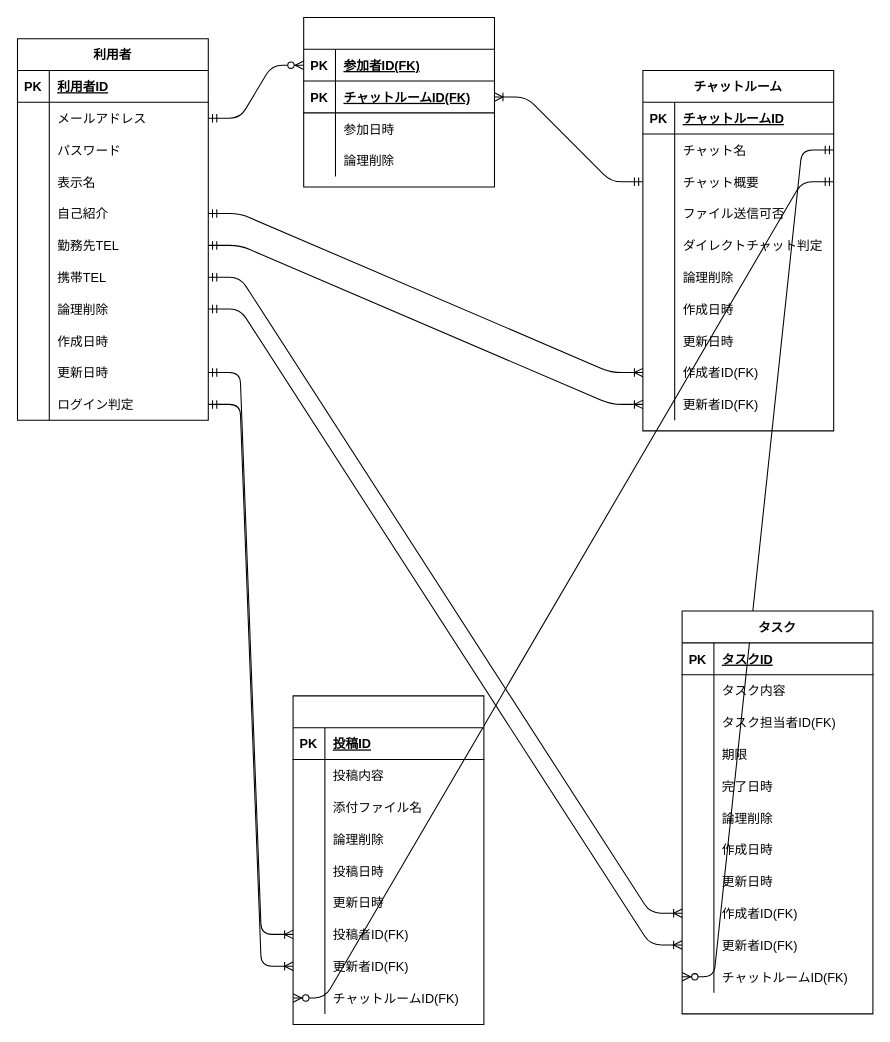
Some shapes in this 890 by 1042 pixel diagram are drawn without their labels. Here are the shapes that lost their labels. From the top down, the box of each, then its label:
(303, 16, 494, 187): チャット参加者集計
(292, 695, 484, 1024): チャット内容
